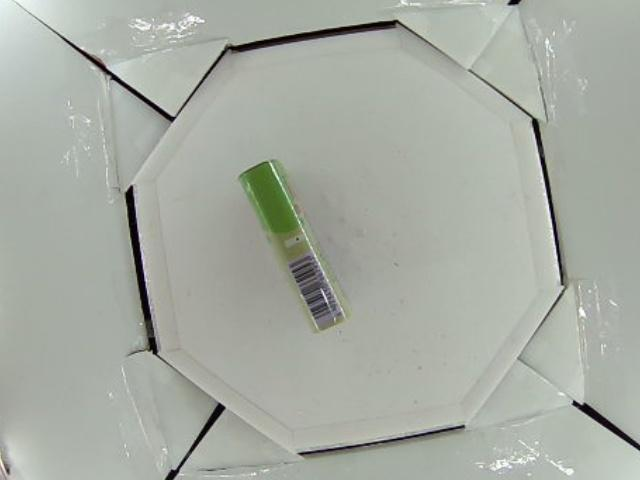Bottle: (235, 159, 350, 335)
